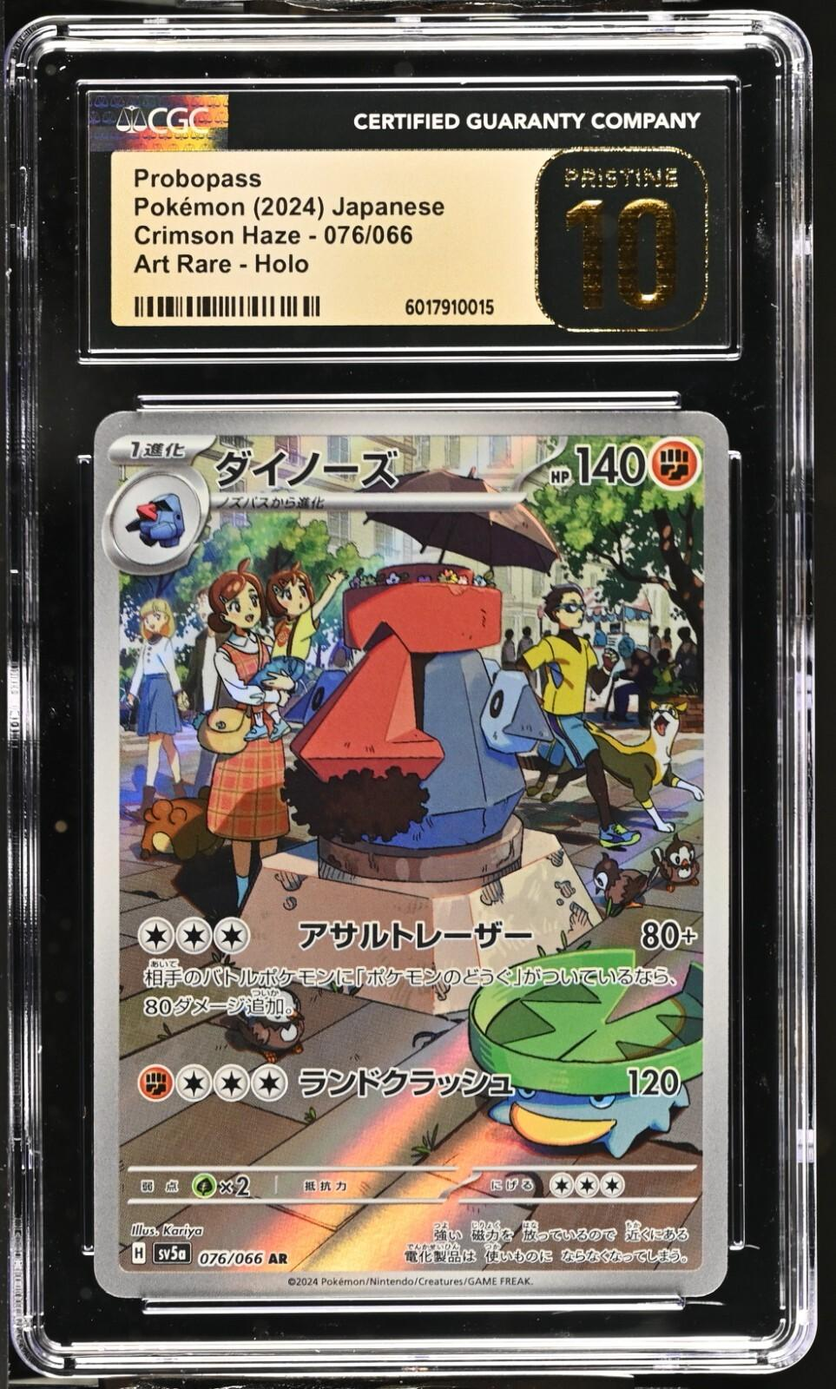card-2UtV: (93, 410, 729, 1299)
